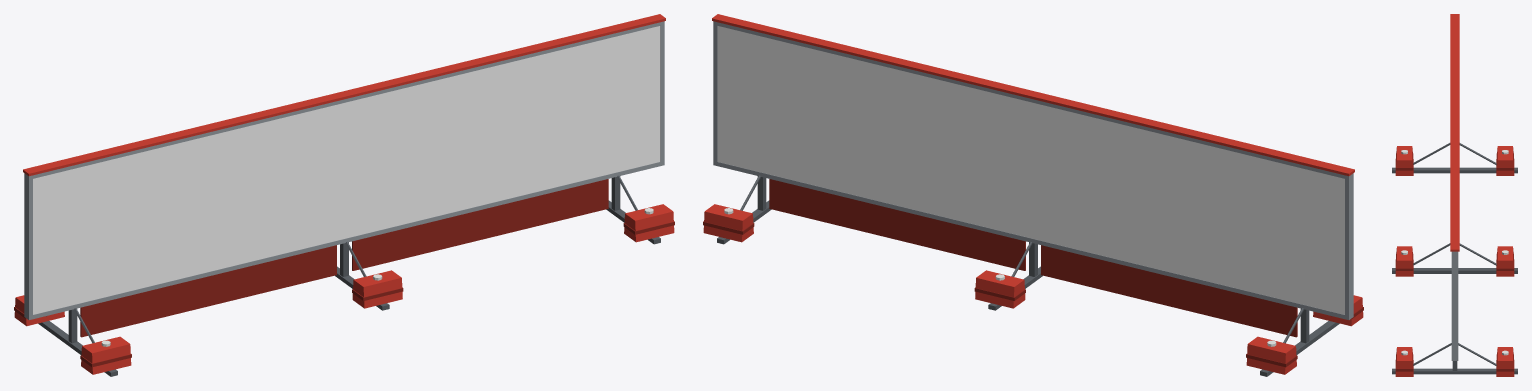
Rendered from sponsor_board.glb.
3 renders of one model, left to right at view 1: azimuth 30°, elevation 25°; view 2: azimuth 150°, elevation 25°; view 3: azimuth 270°, elevation 25°, orthographic. The views are drawn at different scales.
Visible parts, largest first — view 1: sponsor_board; view 2: sponsor_board; view 3: sponsor_board.
Boxes of the visible parts, x1,y1,x2,y2 form: sponsor_board: [14, 14, 674, 376]; sponsor_board: [703, 14, 1363, 376]; sponsor_board: [1392, 14, 1517, 376].
Bounding box in the file's own units: 7.98 × 2.22 × 1.8.
